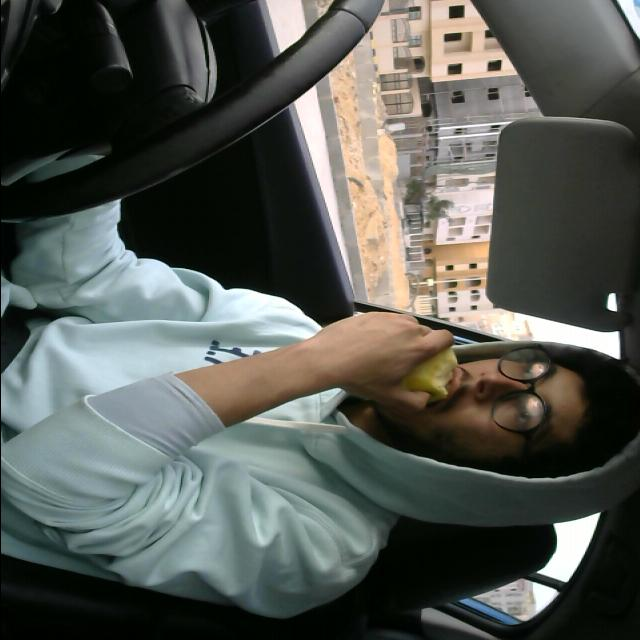eating: (378, 328, 466, 408)
